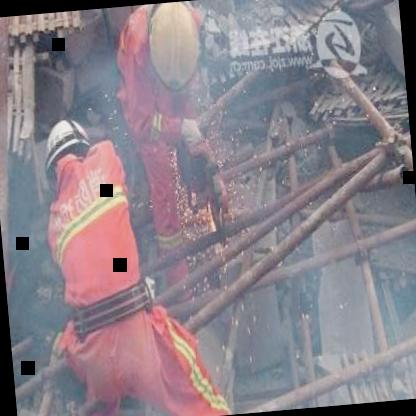helmet: (137, 0, 205, 96), (42, 116, 96, 191)
